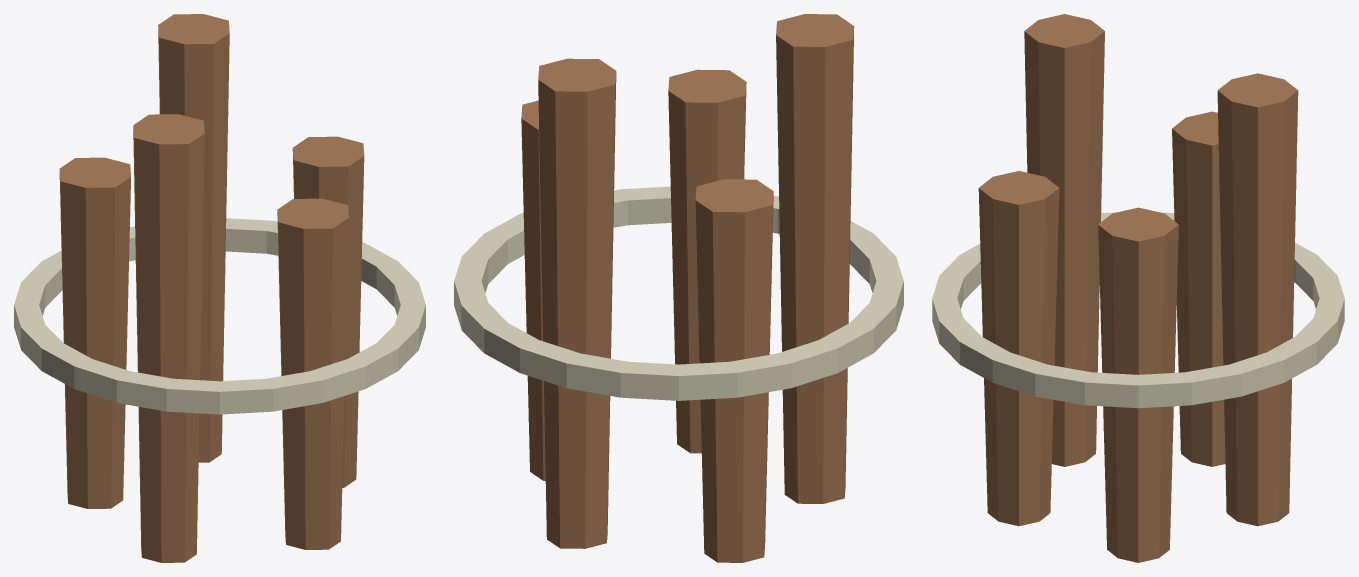
Rendered from clatter_lure.fbx.
The picture shows the model from 3 angles, left to right: view 1: azimuth 30°, elevation 25°; view 2: azimuth 150°, elevation 25°; view 3: azimuth 270°, elevation 25°; orthographic projection. The views are drawn at different scales.
Parts seen in each view (by area): view 1: clatter_pipe_3, clatter_cage, clatter_pipe_4, clatter_pipe_2, clatter_pipe_1, clatter_pipe_0; view 2: clatter_pipe_1, clatter_pipe_3, clatter_cage, clatter_pipe_2, clatter_pipe_4, clatter_pipe_0; view 3: clatter_pipe_1, clatter_pipe_3, clatter_pipe_0, clatter_pipe_4, clatter_cage, clatter_pipe_2.
Boxes of the visible parts, x1,y1,x2,y2 form: clatter_pipe_3: (133,114,204,562); clatter_cage: (14,218,425,414); clatter_pipe_4: (277,198,348,549); clatter_pipe_2: (59,157,130,508); clatter_pipe_1: (158,14,229,462); clatter_pipe_0: (292,136,364,487); clatter_pipe_1: (538,58,616,548); clatter_pipe_3: (776,14,854,503); clatter_cage: (454,186,903,400); clatter_pipe_2: (695,179,773,562); clatter_pipe_4: (668,69,746,453); clatter_pipe_0: (521,100,545,480); clatter_pipe_1: (1217,73,1298,526); clatter_pipe_3: (1024,14,1104,466); clatter_pipe_0: (1098,207,1178,562); clatter_pipe_4: (978,171,1059,526); clatter_cage: (932,212,1344,408); clatter_pipe_2: (1172,111,1225,466).
Bounding box in the file's own units: 46 × 52 × 46.
